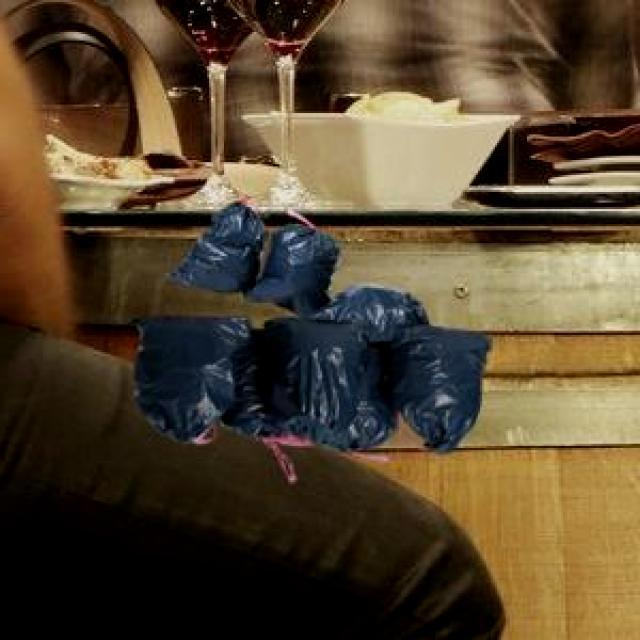Trashbag: (256, 317, 382, 440), (134, 310, 251, 433), (389, 320, 501, 439), (258, 222, 340, 306), (190, 208, 262, 290)
